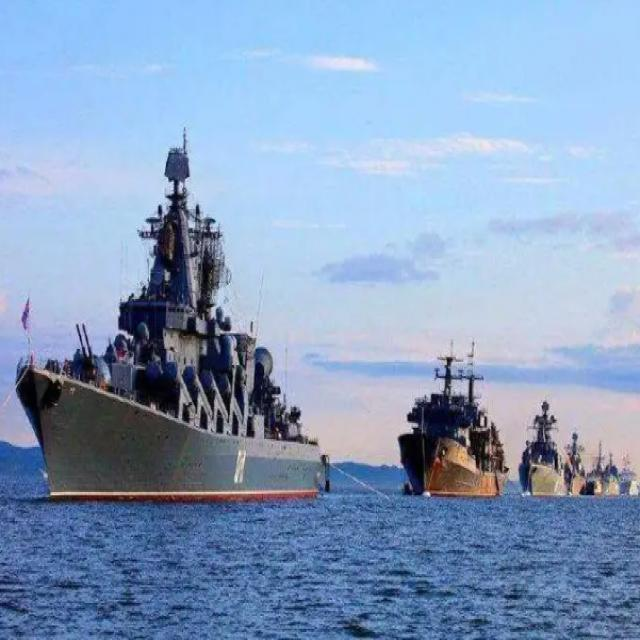navalvessels: (10, 145, 331, 513), (392, 346, 510, 499), (518, 394, 568, 496), (579, 437, 608, 493), (563, 432, 584, 507)
